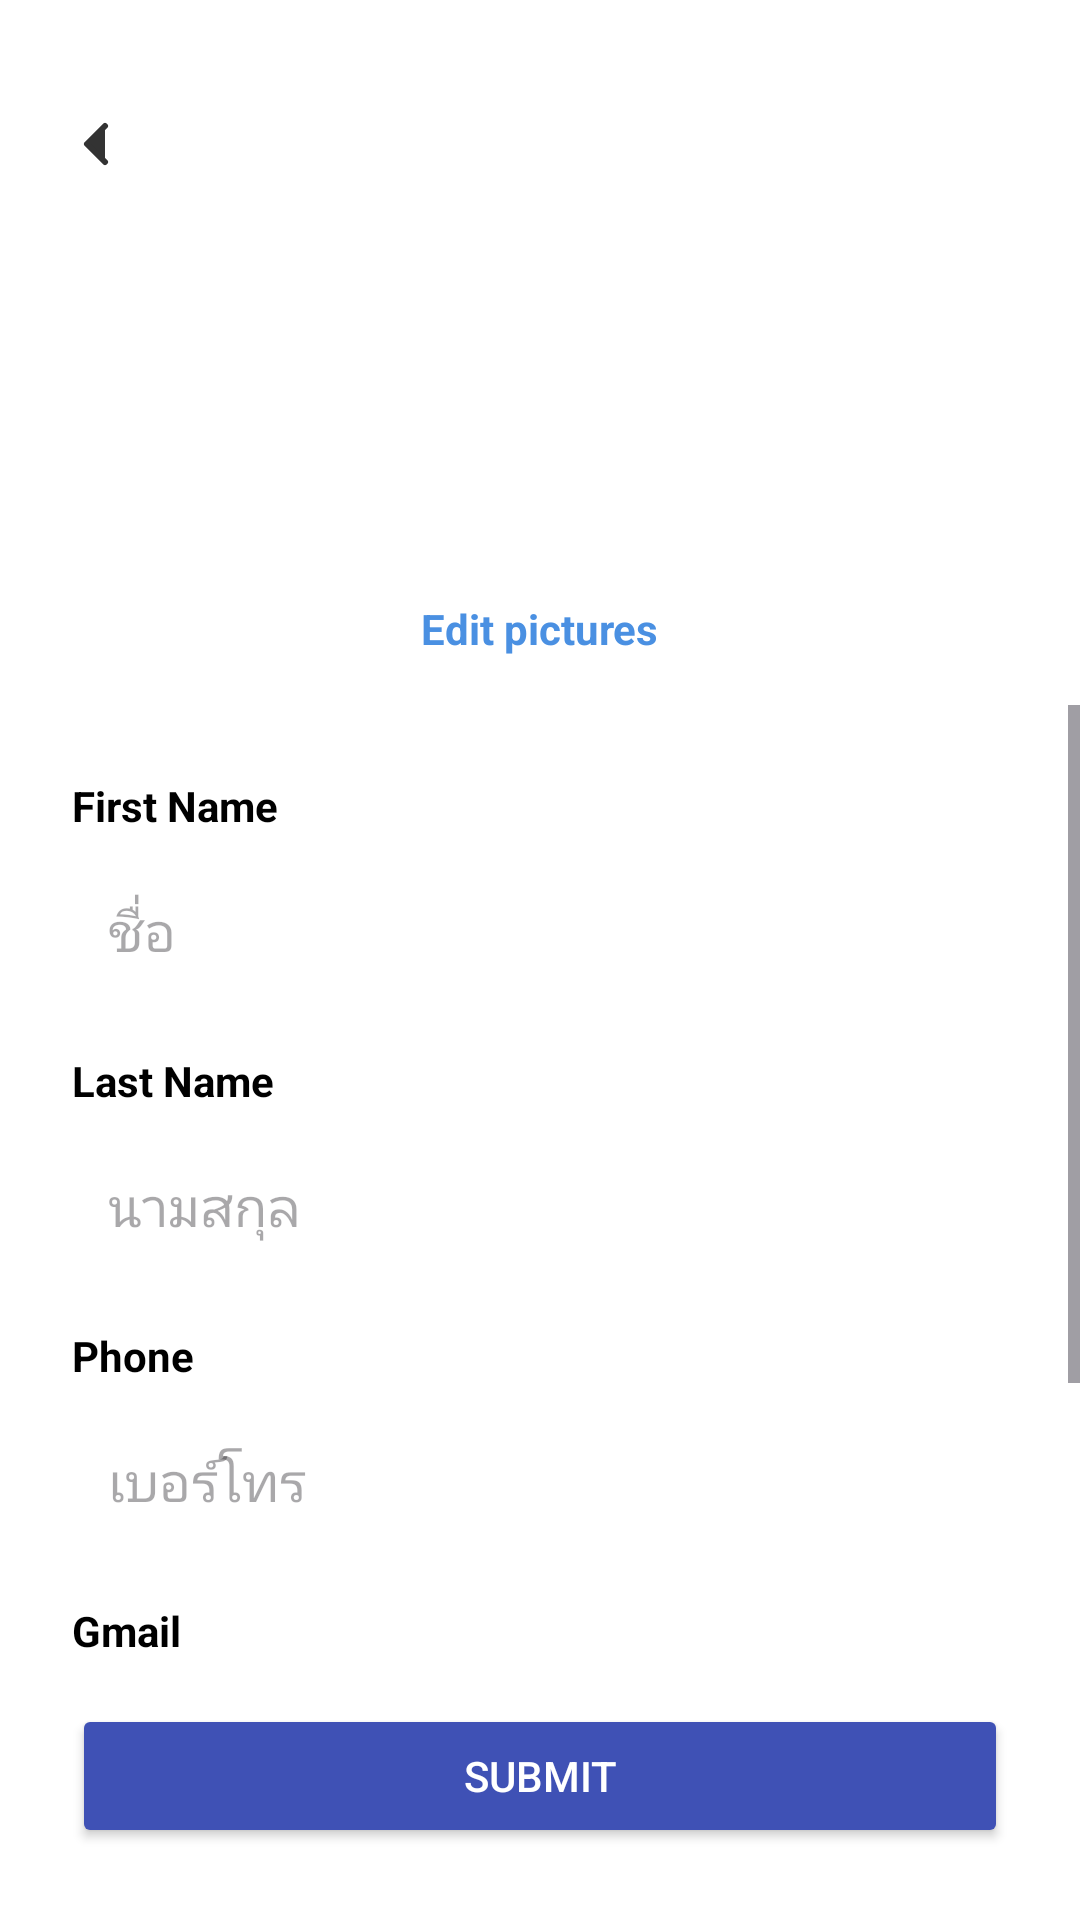

Point at icon controls on the screen. Image size 1080 × 1920, points as point (x, y).
back gg: point (96, 144)
